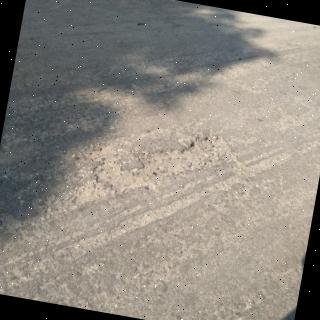pothole: (0, 138, 221, 230)
